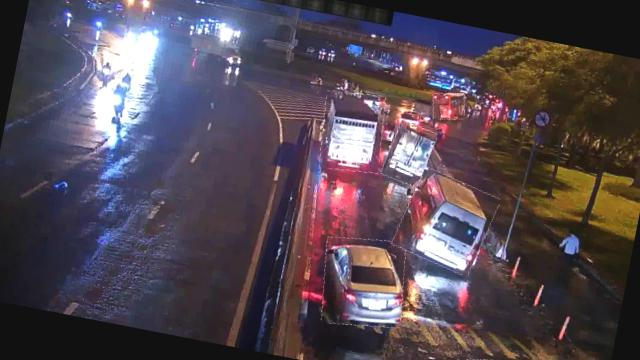Bike: (109, 83, 130, 118), (112, 67, 134, 96), (97, 56, 113, 82)
Bus: (394, 168, 499, 274), (430, 89, 468, 123)
Car: (314, 230, 414, 334), (462, 345, 605, 360), (396, 109, 434, 136)
Truck: (314, 86, 390, 176), (381, 120, 436, 187)
